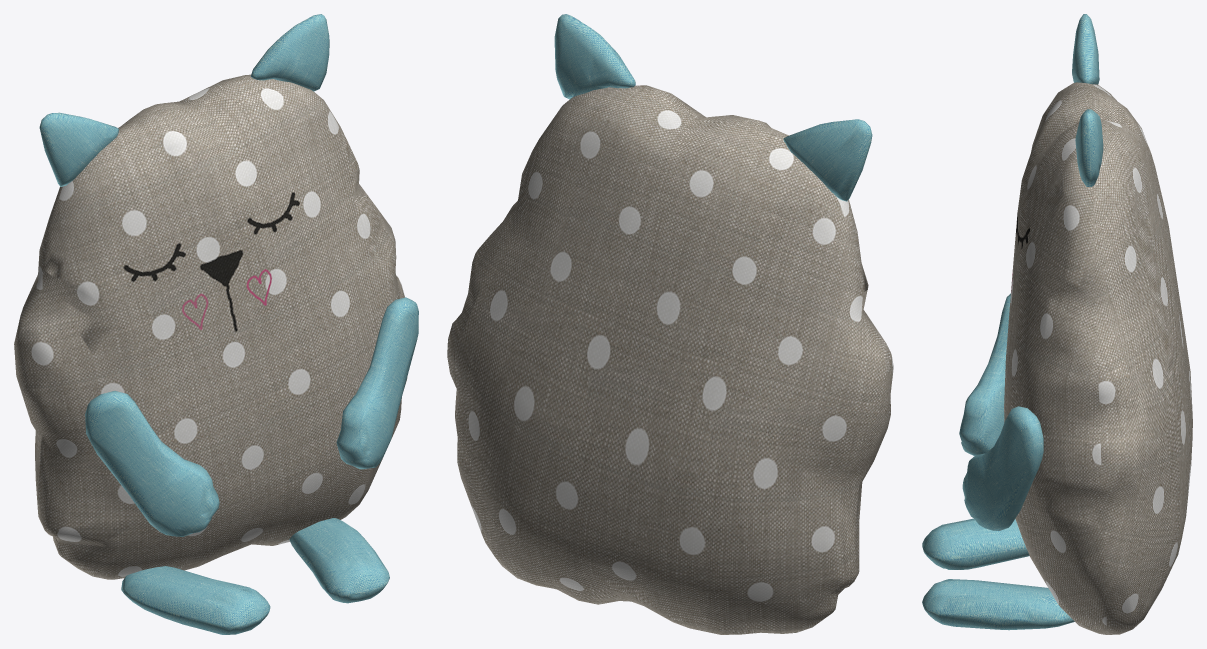
The model's file is Cat.FBX.
The picture shows the model from 3 angles, left to right: view 1: azimuth 30°, elevation 25°; view 2: azimuth 150°, elevation 25°; view 3: azimuth 270°, elevation 25°; orthographic projection. The views are drawn at different scales.
Visible parts, largest first — view 1: cat; view 2: cat; view 3: cat.
Boxes of the visible parts, x1=… form: cat: x1=14, y1=14, x2=418, y2=634; cat: x1=447, y1=14, x2=893, y2=634; cat: x1=922, y1=14, x2=1192, y2=634.
Size of the model in its own units: 23.54 by 30.31 by 14.17.
